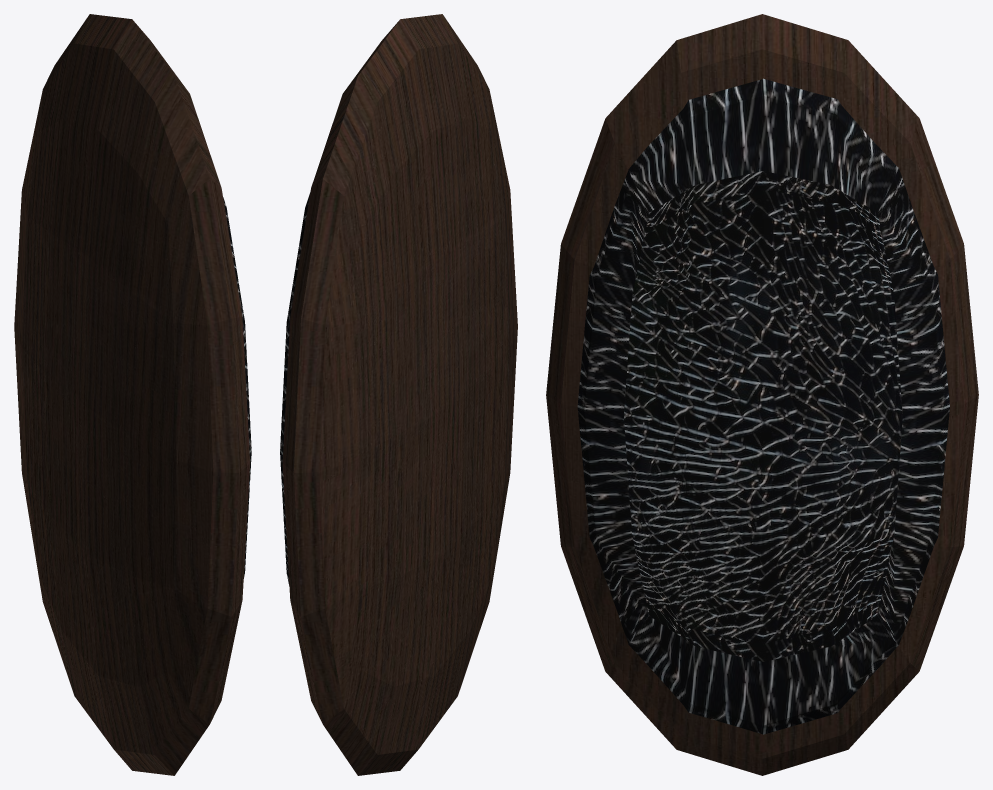
The model's file is mirror.fbx.
3 renders of one model, left to right at view 1: azimuth 30°, elevation 25°; view 2: azimuth 150°, elevation 25°; view 3: azimuth 270°, elevation 25°, orthographic.
Visible parts, largest first — view 1: Cube; view 2: Cube; view 3: Cube.
Boxes of the visible parts, <box> form: Cube: <box>14,14,251,775</box>; Cube: <box>280,14,517,775</box>; Cube: <box>546,14,978,775</box>.
Bounding box in the file's own units: 148 × 1063 × 547.
